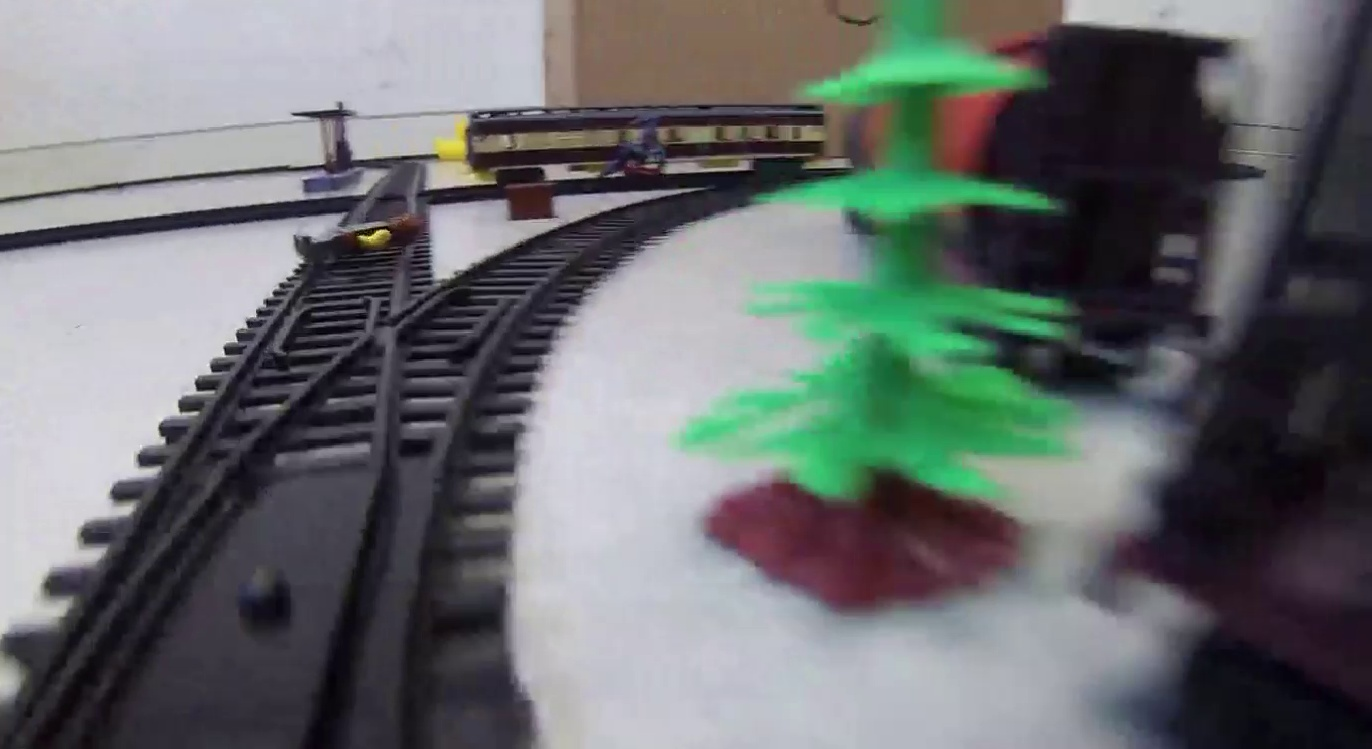box: (503, 182, 557, 222)
people: (291, 209, 429, 261)
tree: (701, 8, 1069, 592)
